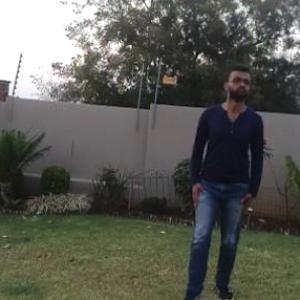follow: (178, 63, 262, 295)
